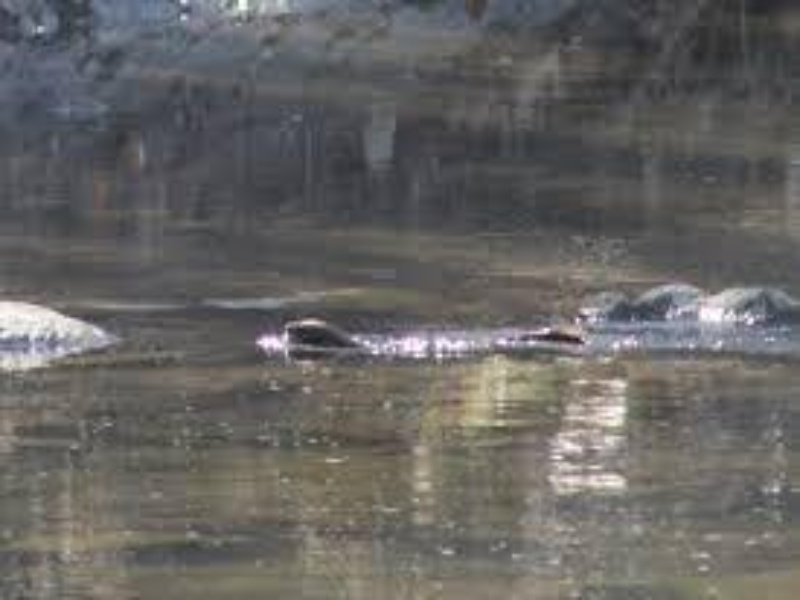minkish: (279, 316, 591, 358)
